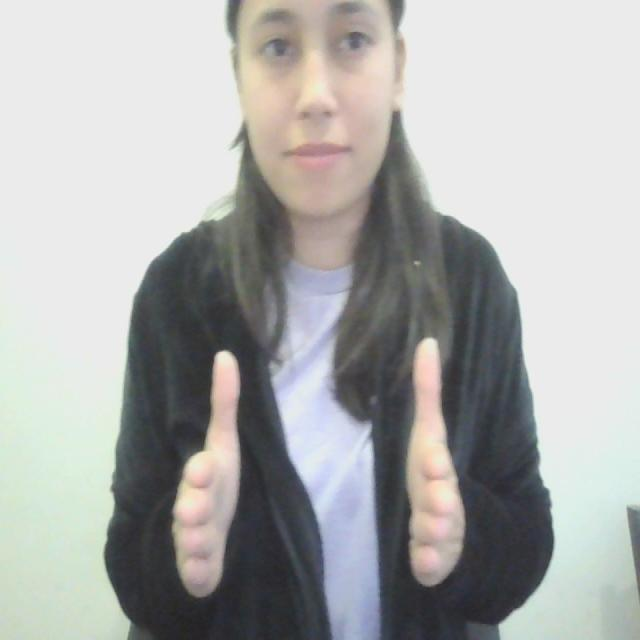Nasil: (167, 334, 466, 600)
